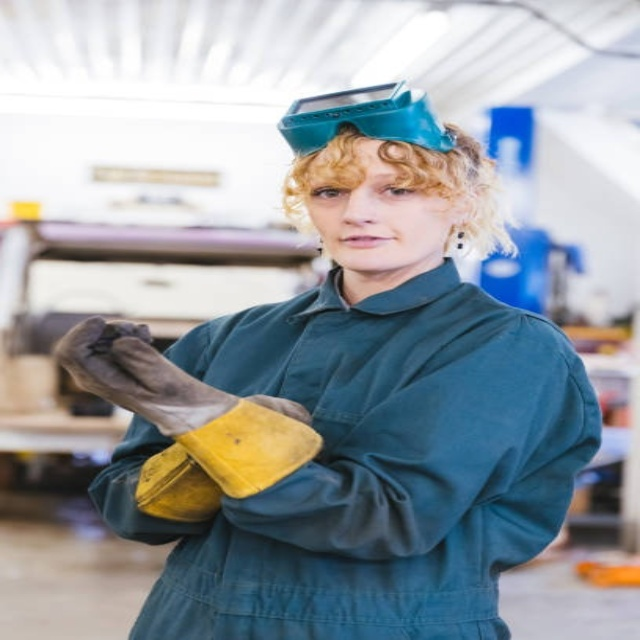Guantes: (47, 316, 325, 498)
Sin_gafas: (307, 174, 422, 206)
Sin_mascara: (331, 229, 400, 264)
